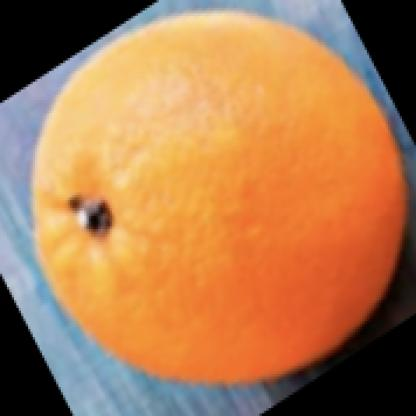fresh: (32, 10, 404, 381)
